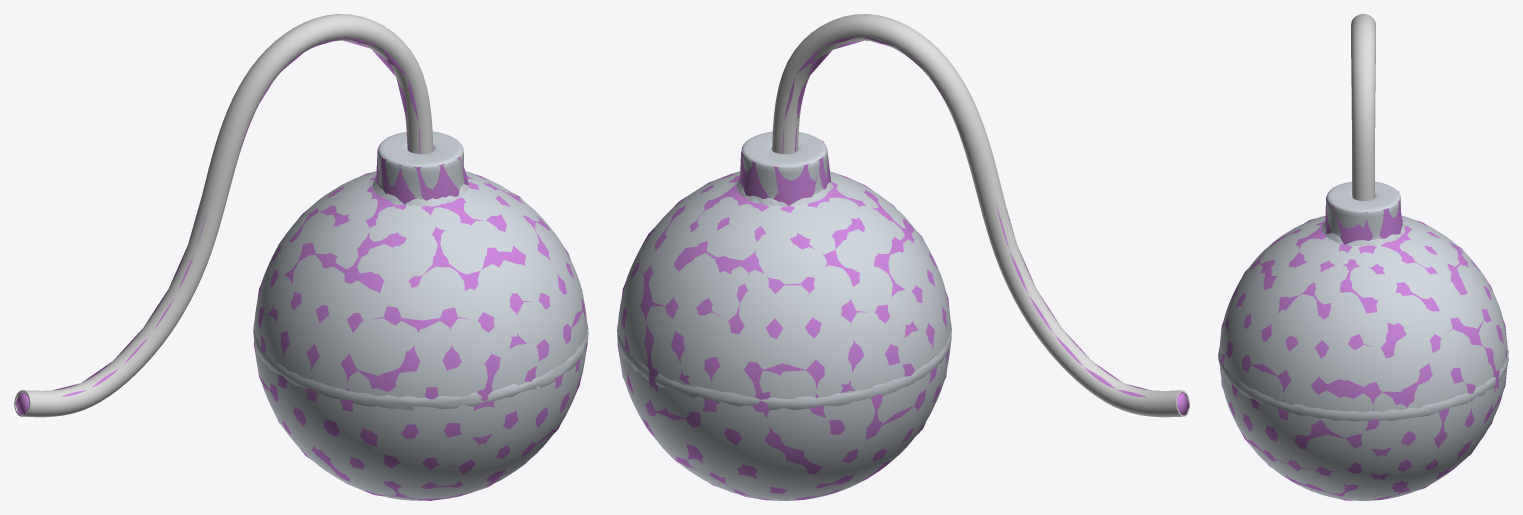
The model's file is [weapon] Bomb classic.fbx.
3 views of the same model, side by side, from view 1: azimuth 30°, elevation 25°; view 2: azimuth 150°, elevation 25°; view 3: azimuth 270°, elevation 25° (orthographic). The views are drawn at different scales.
Visible parts, largest first — view 1: Bomb classic_LOD0, Bomb classic_PHYS; view 2: Bomb classic_LOD0, Bomb classic_PHYS; view 3: Bomb classic_LOD0, Bomb classic_PHYS.
Boxes of the visible parts, box(x1,y1,x2,y2) form: Bomb classic_LOD0: box(14, 14, 588, 500); Bomb classic_PHYS: box(15, 37, 587, 500); Bomb classic_LOD0: box(617, 14, 1189, 500); Bomb classic_PHYS: box(617, 36, 1189, 500); Bomb classic_LOD0: box(1218, 14, 1508, 500); Bomb classic_PHYS: box(1220, 187, 1506, 500).
Size of what is drawn, in the model's own units: 25.55 by 21.95 by 13.6.
